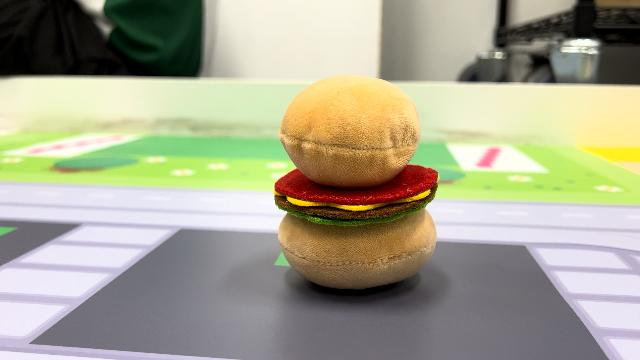burger: (268, 70, 444, 292)
